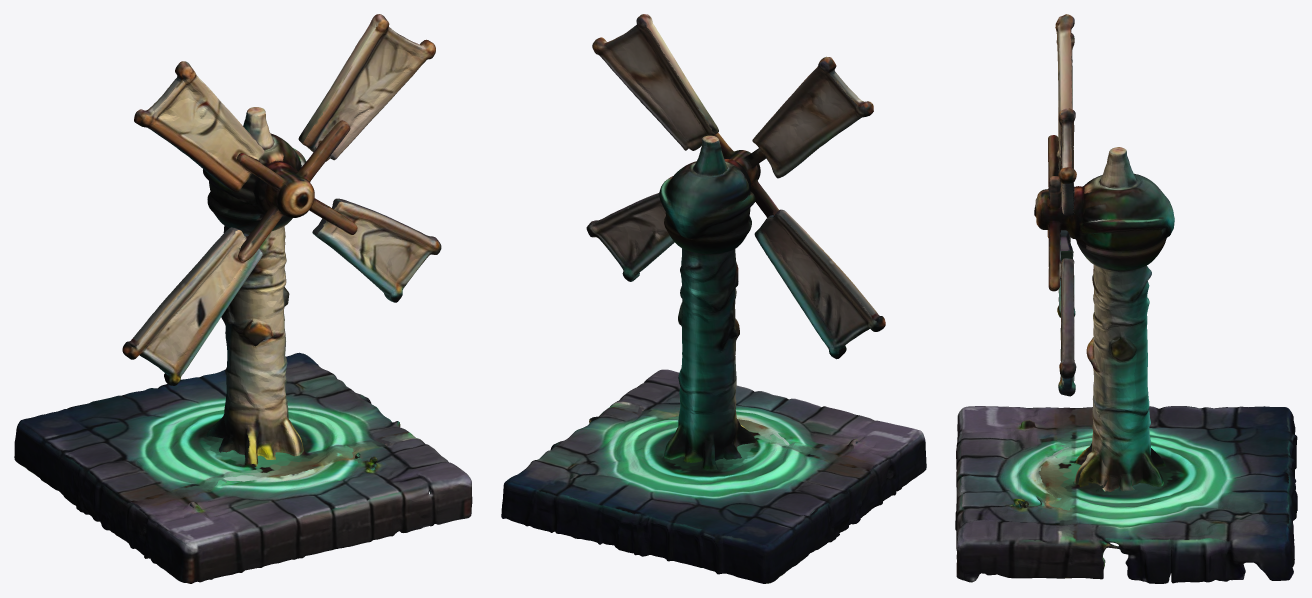
The model's file is wind_paint.glb.
The picture shows the model from 3 angles, left to right: view 1: azimuth 30°, elevation 25°; view 2: azimuth 150°, elevation 25°; view 3: azimuth 270°, elevation 25°; orthographic projection. The views are drawn at different scales.
Visible parts, largest first — view 1: temp_mesh.ply; view 2: temp_mesh.ply; view 3: temp_mesh.ply.
Part boxes in pixels (left/top/right/bottom): temp_mesh.ply: left=14, top=14, right=472, bottom=583; temp_mesh.ply: left=501, top=14, right=926, bottom=583; temp_mesh.ply: left=955, top=14, right=1297, bottom=583.
Bounding box in the file's own units: 1.39 × 1.97 × 1.34.
Materials: 1 (1 with a texture image).
